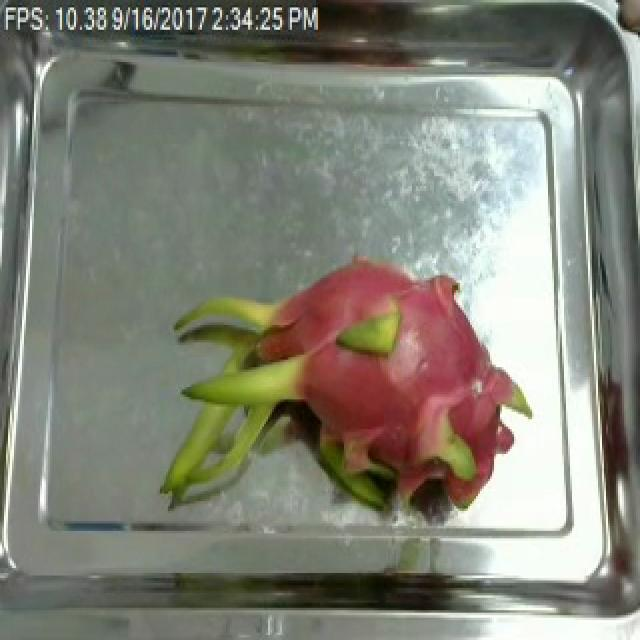fruit: (142, 236, 528, 533)
